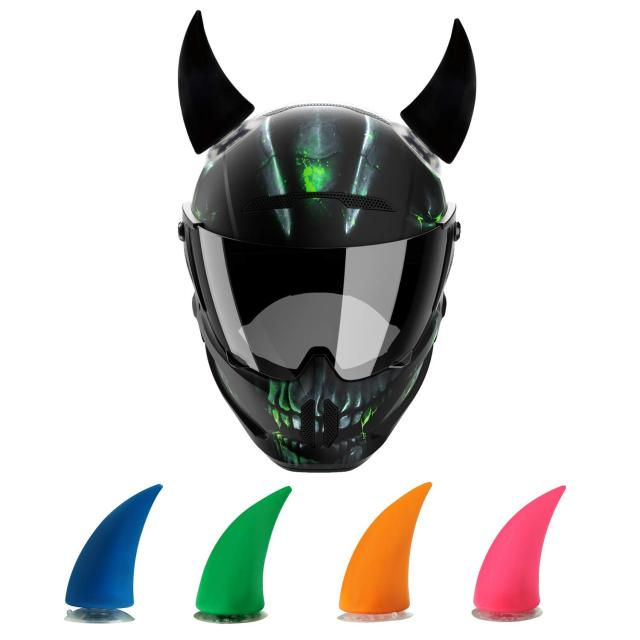Helmet: (173, 107, 464, 477)
